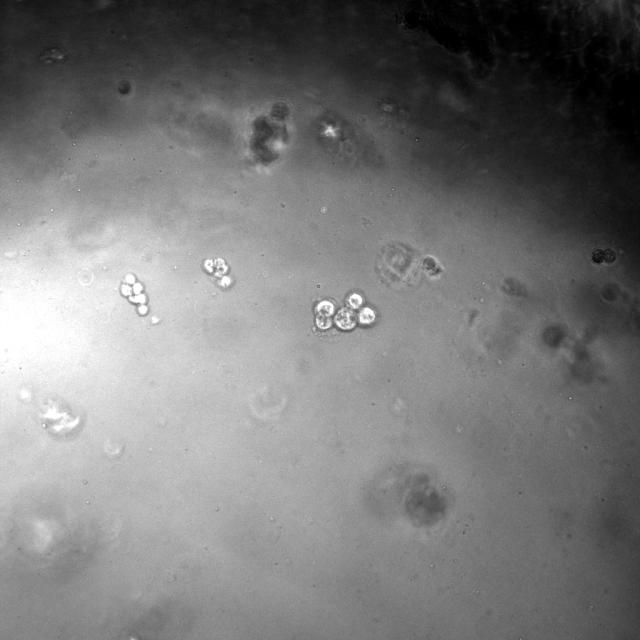organoid: (313, 291, 377, 333), (402, 473, 451, 527), (249, 103, 289, 165), (374, 241, 422, 289), (119, 273, 149, 314), (203, 258, 233, 289), (542, 324, 565, 348), (421, 255, 443, 279), (591, 247, 618, 264), (600, 282, 619, 302), (118, 79, 131, 95)
